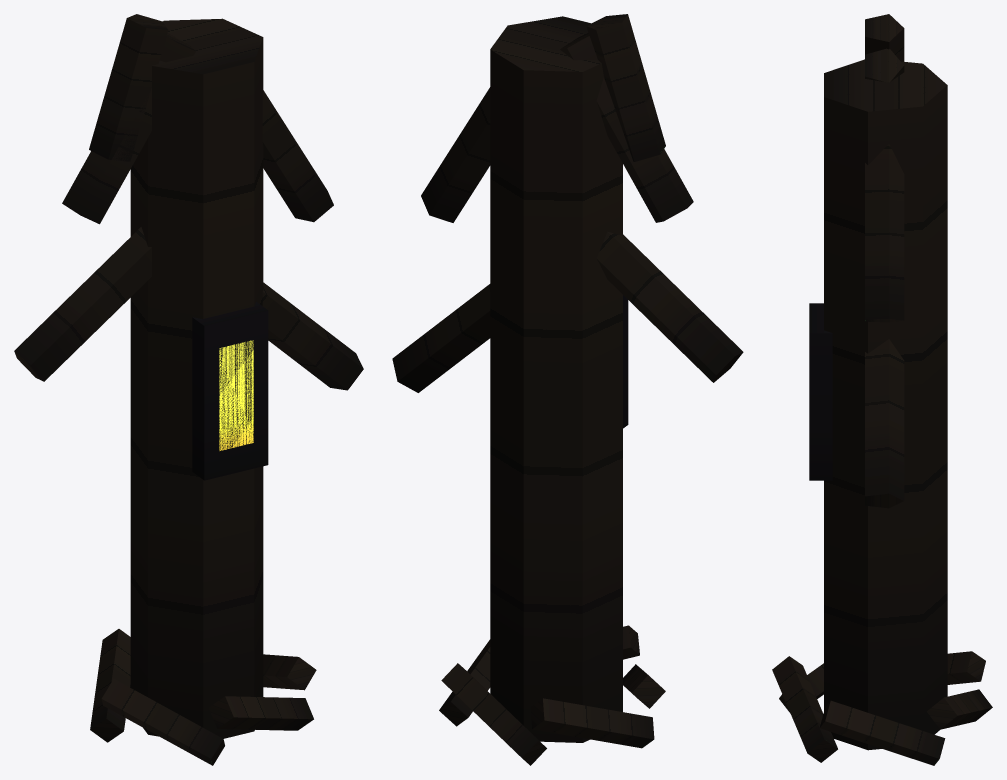
Rendered from dead_tree.glb.
3 views of the same model, side by side, from view 1: azimuth 30°, elevation 25°; view 2: azimuth 150°, elevation 25°; view 3: azimuth 270°, elevation 25° (orthographic). The views are drawn at different scales.
Parts seen in each view (by area): view 1: dead_tree; view 2: dead_tree; view 3: dead_tree.
Boxes of the visible parts, <box> form: dead_tree: <box>14,14,363,765</box>; dead_tree: <box>392,14,743,765</box>; dead_tree: <box>772,14,992,765</box>.
Bounding box in the file's own units: 1.39 × 2.79 × 0.8154.
1 material, 1 textured.
